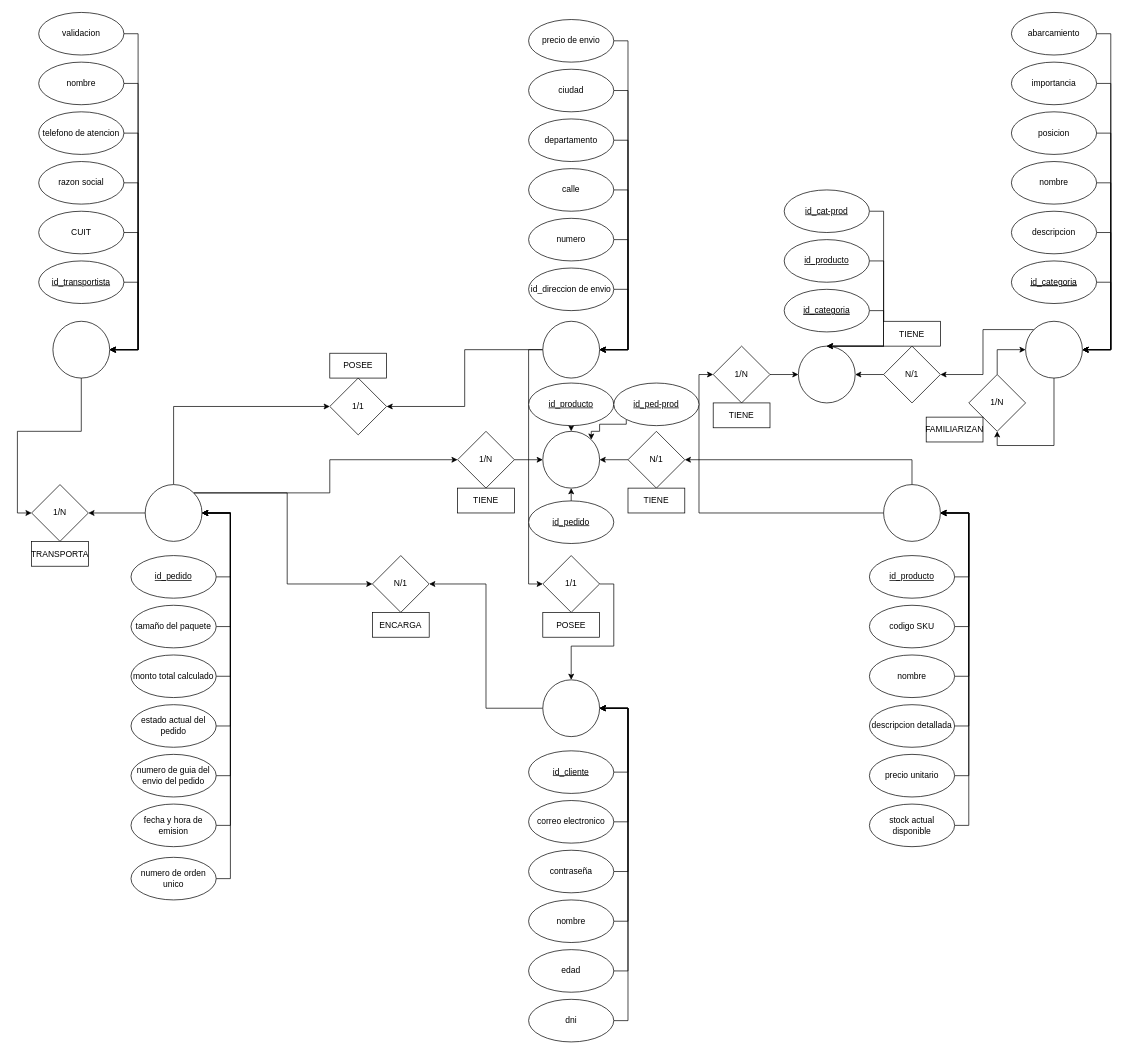
The diagram is 1129 pixels wide and 1054 high, and some of its shapes have lost their labels. Each missing label, with the centre of its shape:
cat-prod: (826,374)
CATEGORIA: (1053,349)
CLIENTE: (571,708)
DIRECCION DE ENVIO: (571,349)
ped-prod: (571,459)
PEDIDO: (173,512)
PRODUCTO: (911,512)
TRANSPORTISTA: (81,349)
